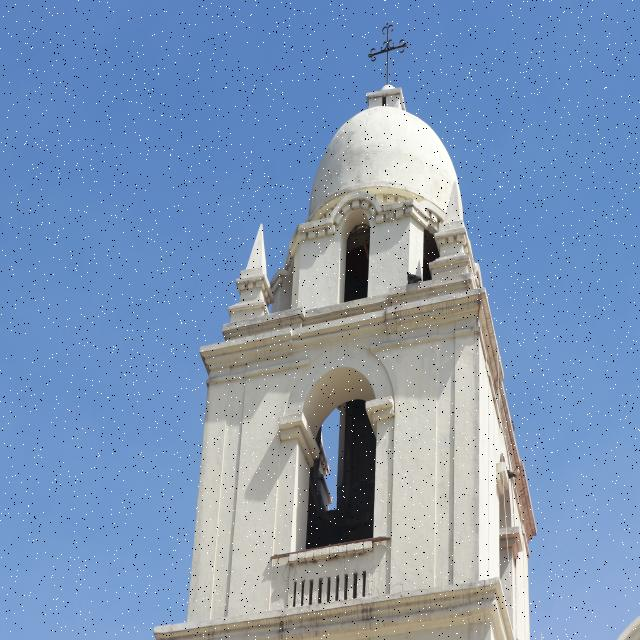CAMPANARIO: (170, 306, 580, 640)
CUPULA: (246, 59, 516, 287)
colonial-architecture-: (128, 28, 588, 640)
